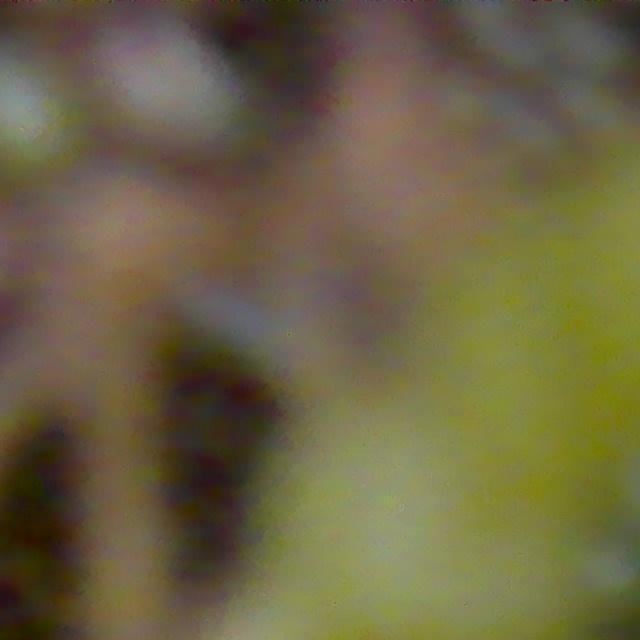SeaGrape: (0, 62, 85, 175)
